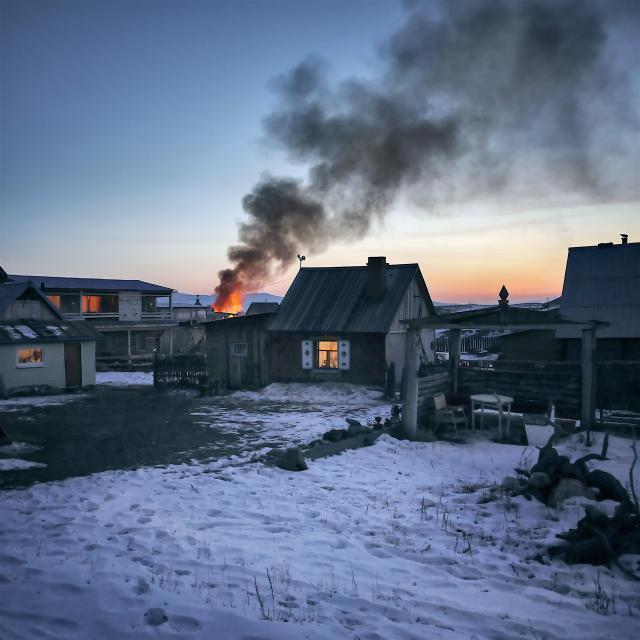Fire: (206, 282, 252, 317), (314, 341, 345, 374), (82, 291, 110, 310)
Smoke: (237, 10, 631, 228), (222, 226, 296, 279)
